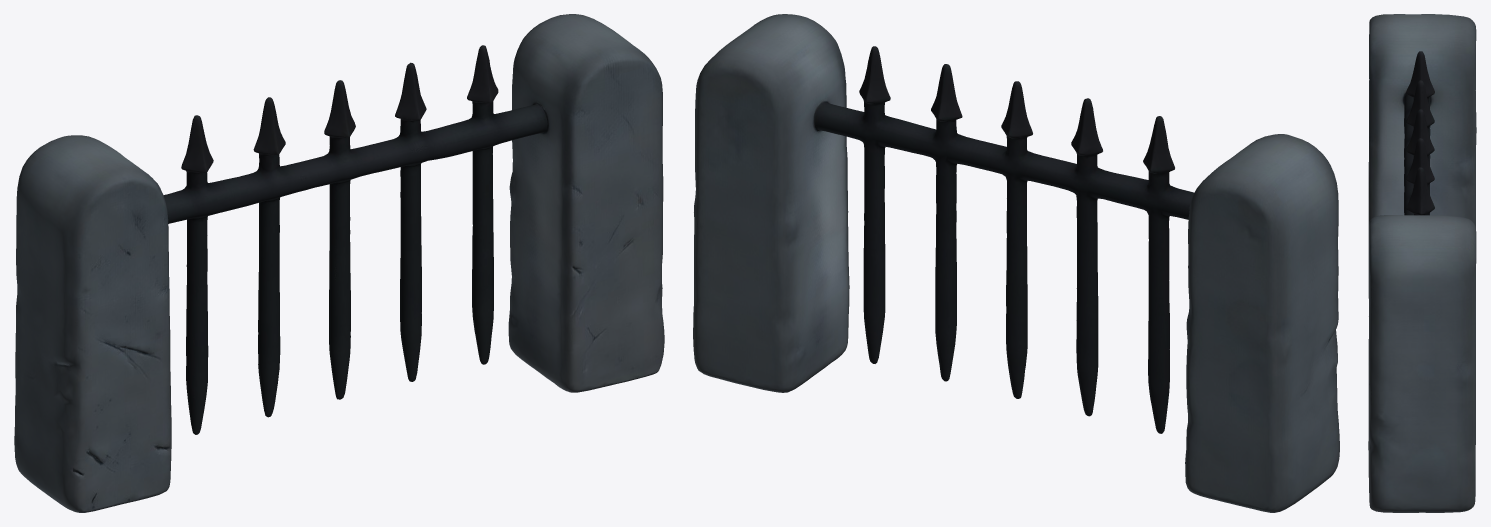
File: fence.glb
3 views of the same model, side by side, from view 1: azimuth 30°, elevation 25°; view 2: azimuth 150°, elevation 25°; view 3: azimuth 270°, elevation 25° (orthographic). The views are drawn at different scales.
Visible parts, largest first — view 1: Mesh; view 2: Mesh; view 3: Mesh.
Boxes of the visible parts, x1=… form: Mesh: x1=14, y1=14, x2=664, y2=512; Mesh: x1=693, y1=14, x2=1339, y2=512; Mesh: x1=1368, y1=14, x2=1476, y2=512.
Size of the model in its own units: 1.91 by 1.05 by 0.3575.
1 material, 1 textured.
